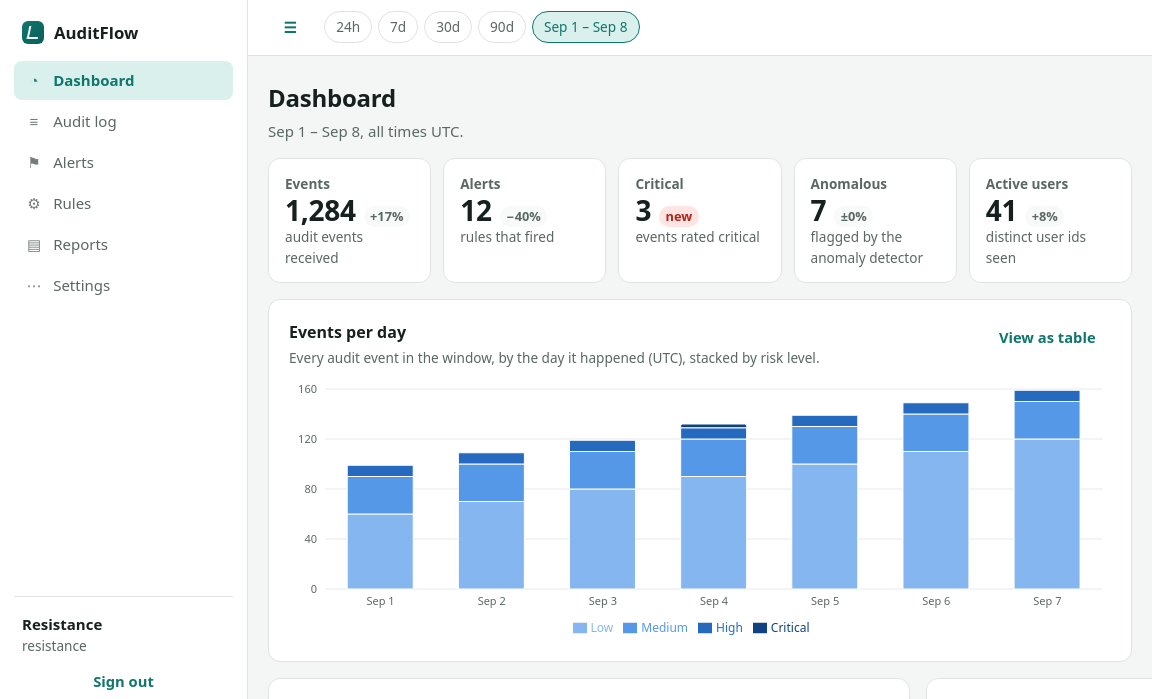
Scenario: dashboard › asks for the window in the URL and re-asks when a preset changes it
Expected: the heading "Dashboard" is shown, [268,81,396,114]
What coordinates should you click on to do the following:
click the button "24h"
I would click on:
 (348, 27)
Its box is [324,11,372,43].
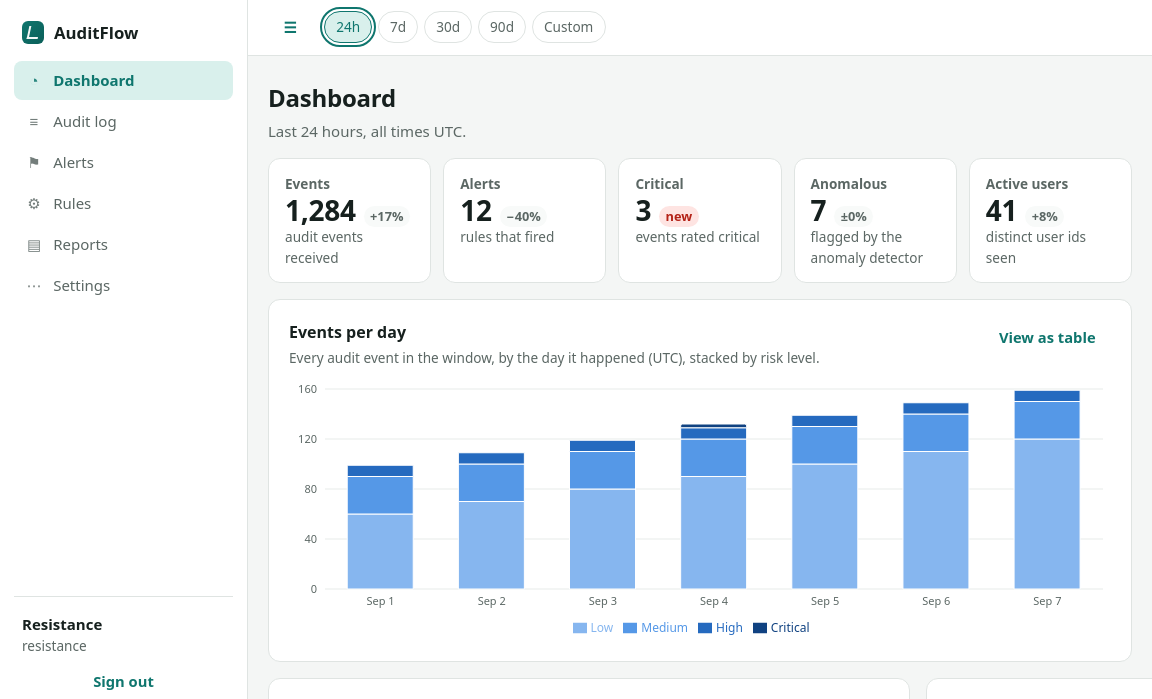
Result: the text "Last 24 hours" is shown at [268,121,363,141]
